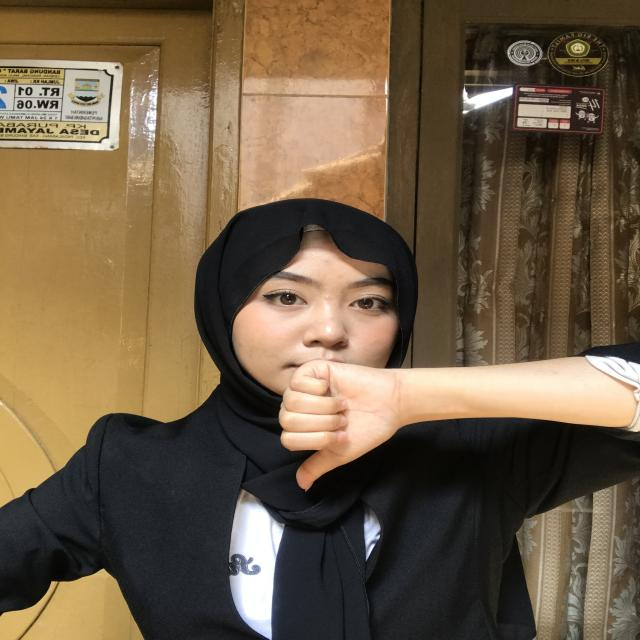sedih: (270, 338, 414, 508)
